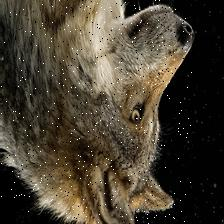WOLF: (0, 0, 191, 224)
